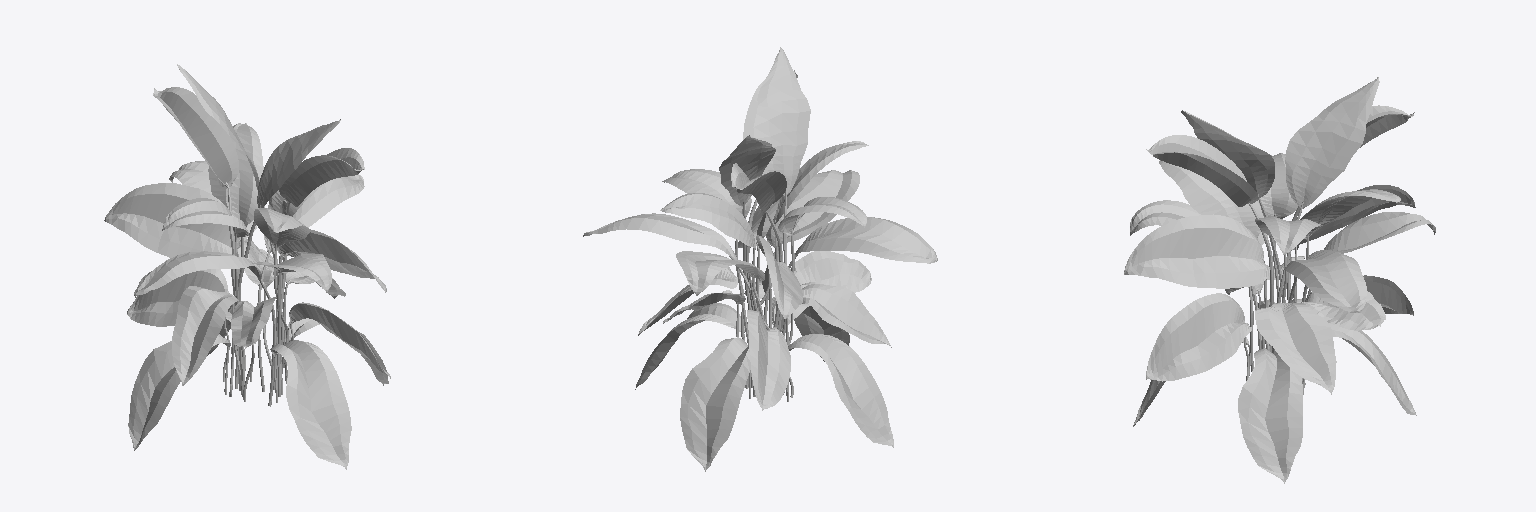
Rendered from plantas.obj.
3 renders of one model, left to right at view 1: azimuth 30°, elevation 25°; view 2: azimuth 150°, elevation 25°; view 3: azimuth 270°, elevation 25°, orthographic.
Visible parts, largest first — view 1: BezierCurve; view 2: BezierCurve; view 3: BezierCurve.
Part boxes in pixels (bbox=[...]): BezierCurve: bbox=[104, 64, 390, 469]; BezierCurve: bbox=[583, 47, 937, 471]; BezierCurve: bbox=[1124, 77, 1435, 483].
Bounding box in the file's own units: 16.02 × 17.28 × 14.91.